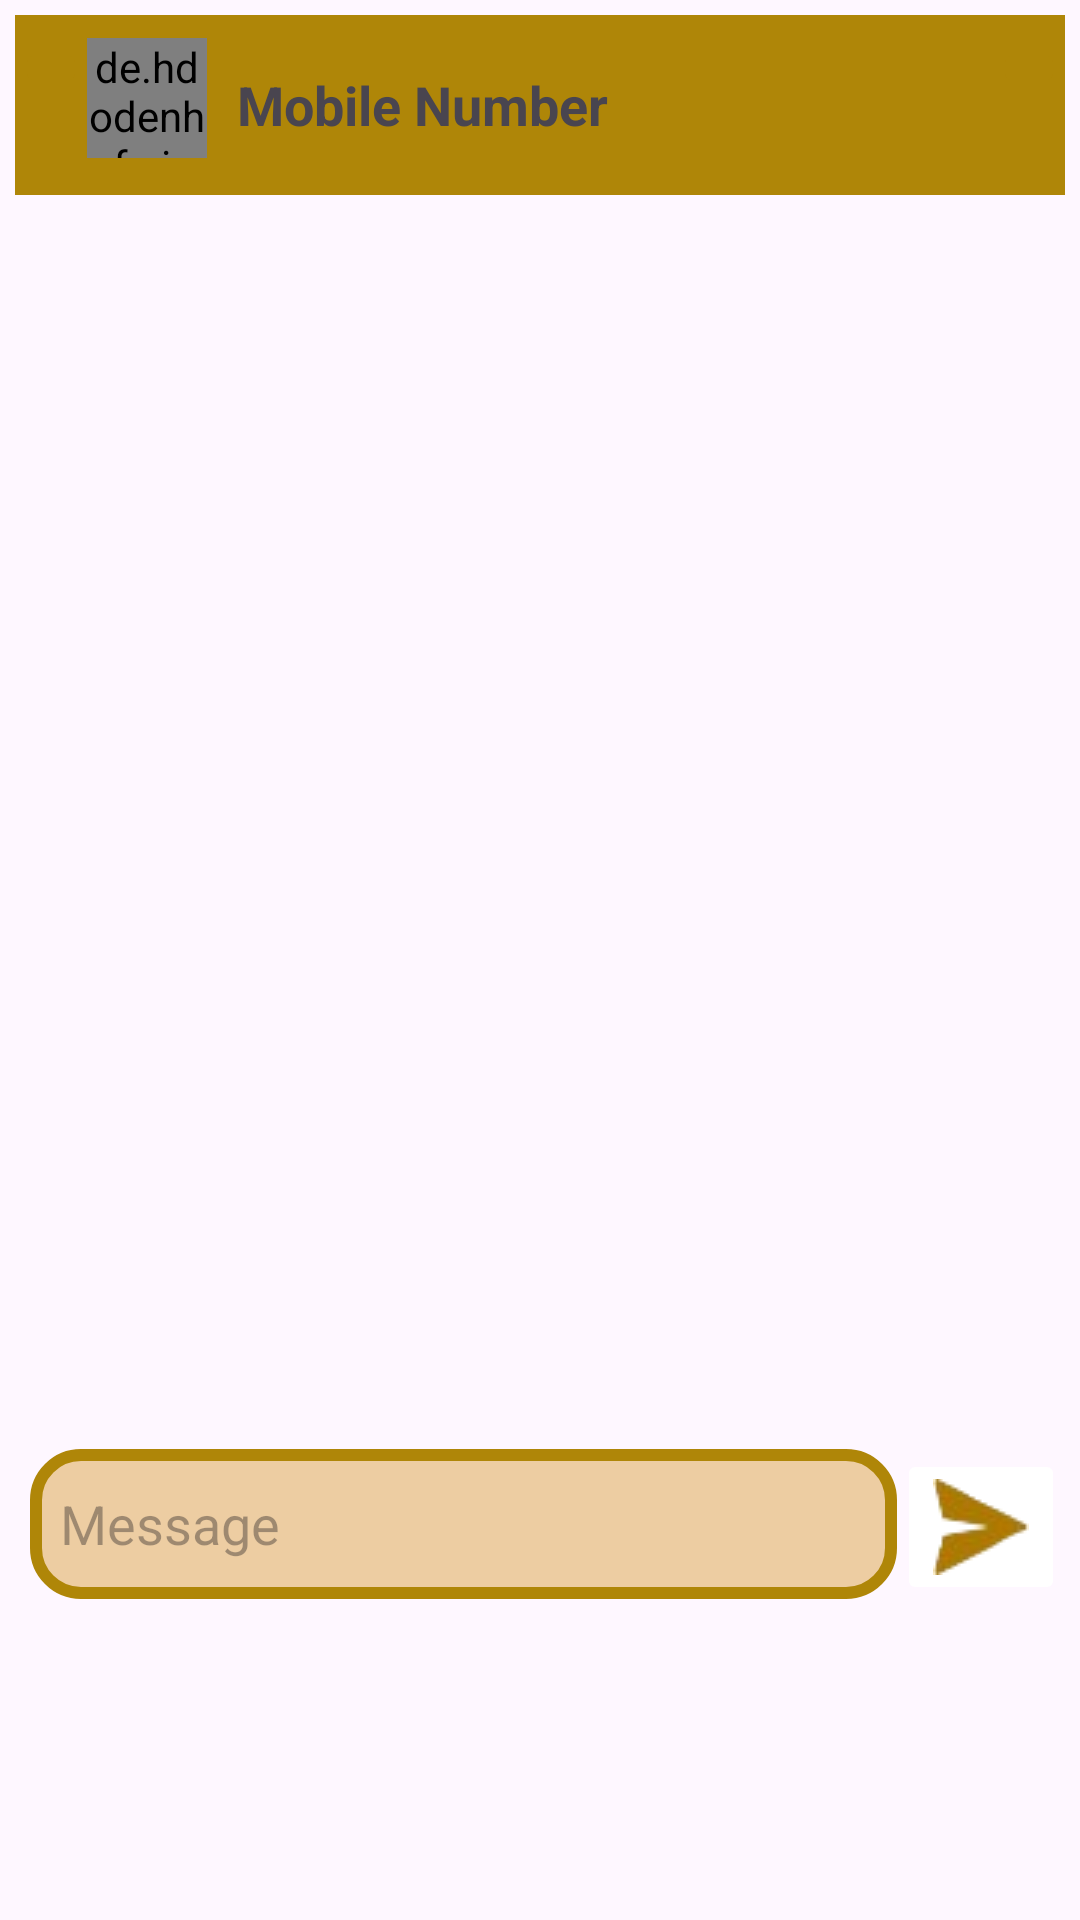

Screen size 1080w x 1920h. Icon name, then its box in pixels as (x1, y1, x2, y2):
send: (933, 1479, 1029, 1575)
